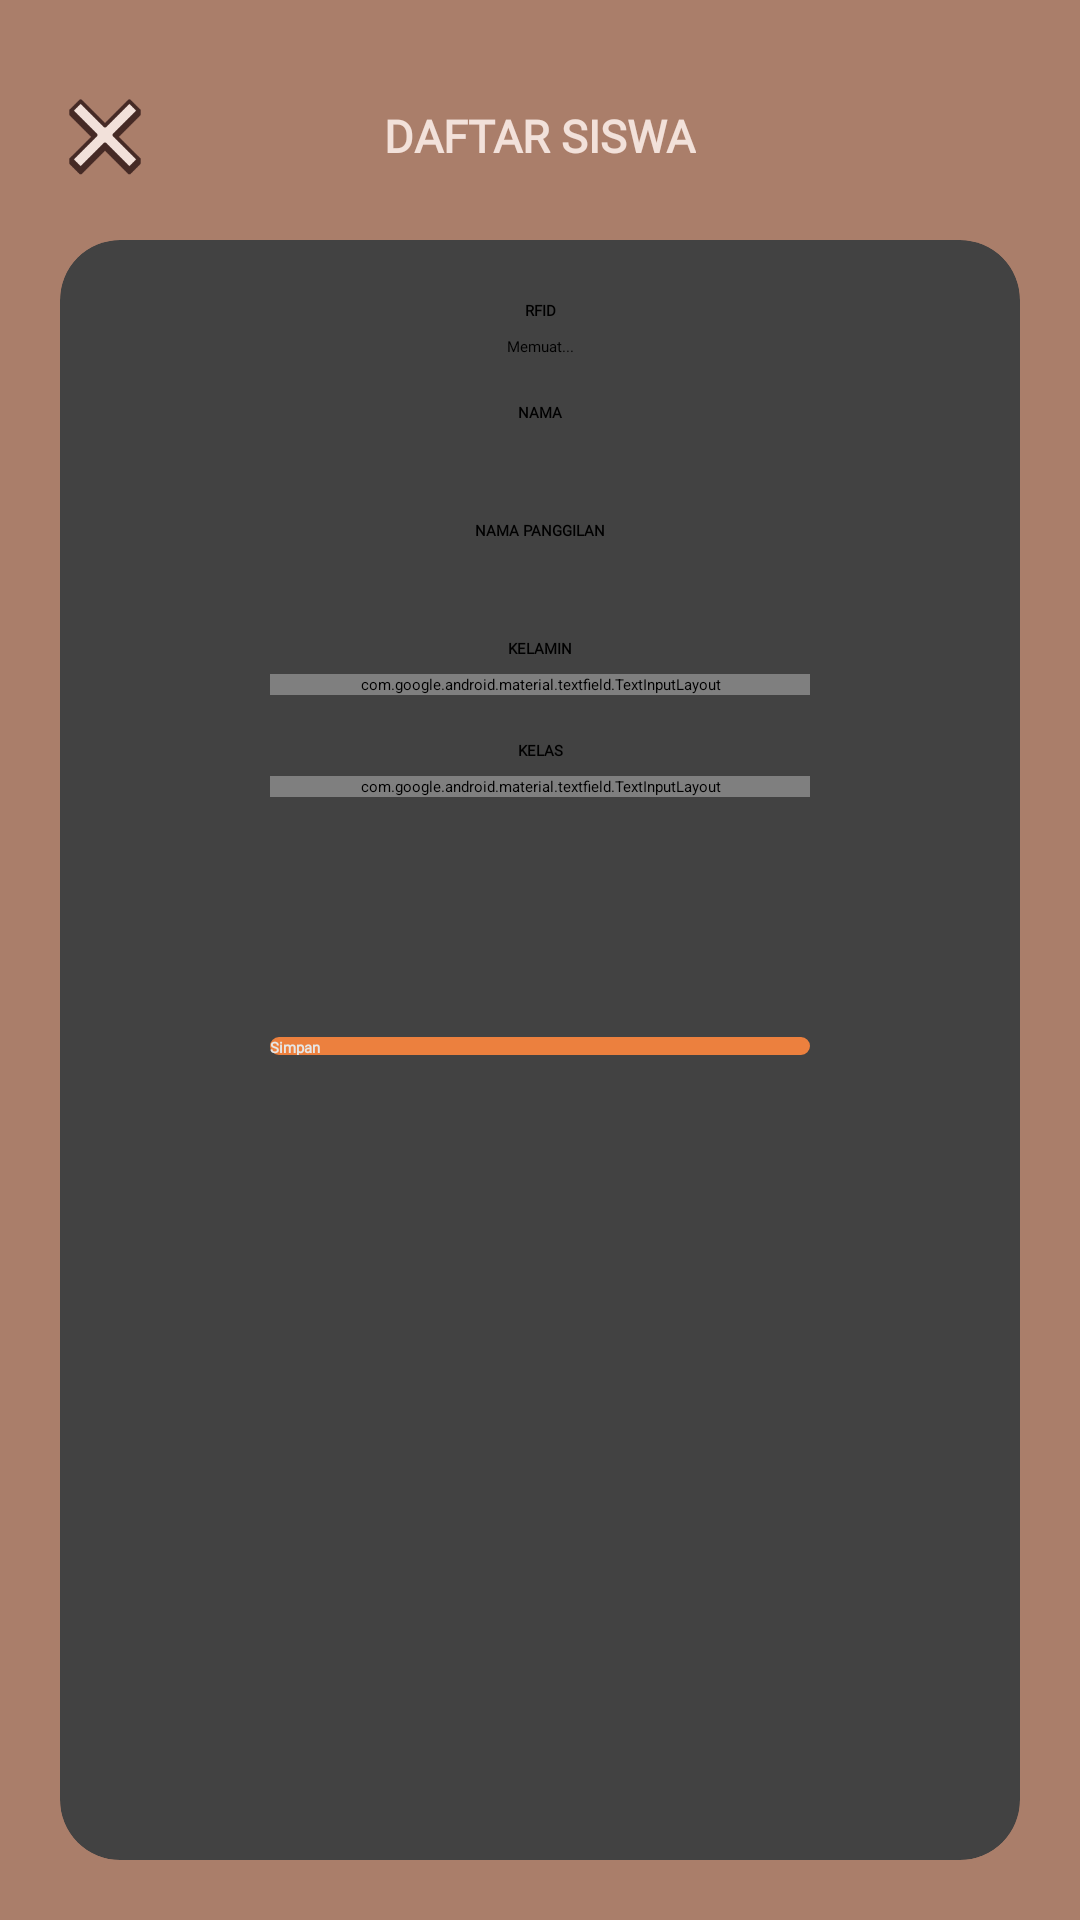

Screen size 1080 x 1920. Icon name, then its box in pixels as rect(x1, y1, x2, y2):
close: rect(69, 99, 141, 175)
